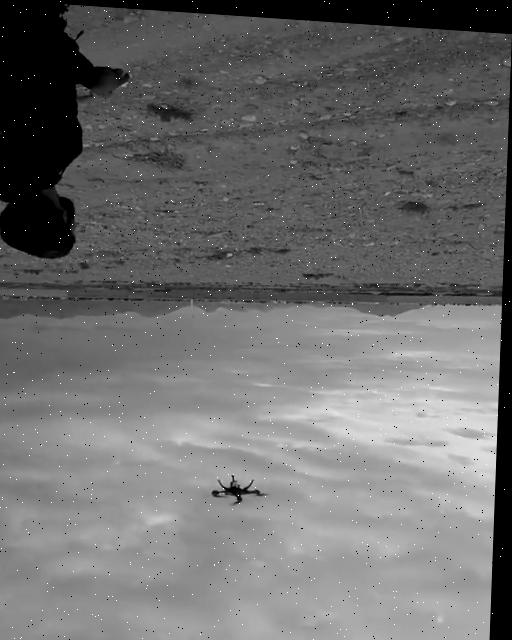drone: (209, 467, 274, 508)
